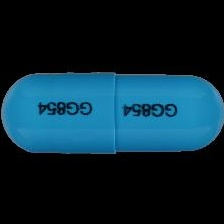0440-1380: (0, 0, 224, 224)
